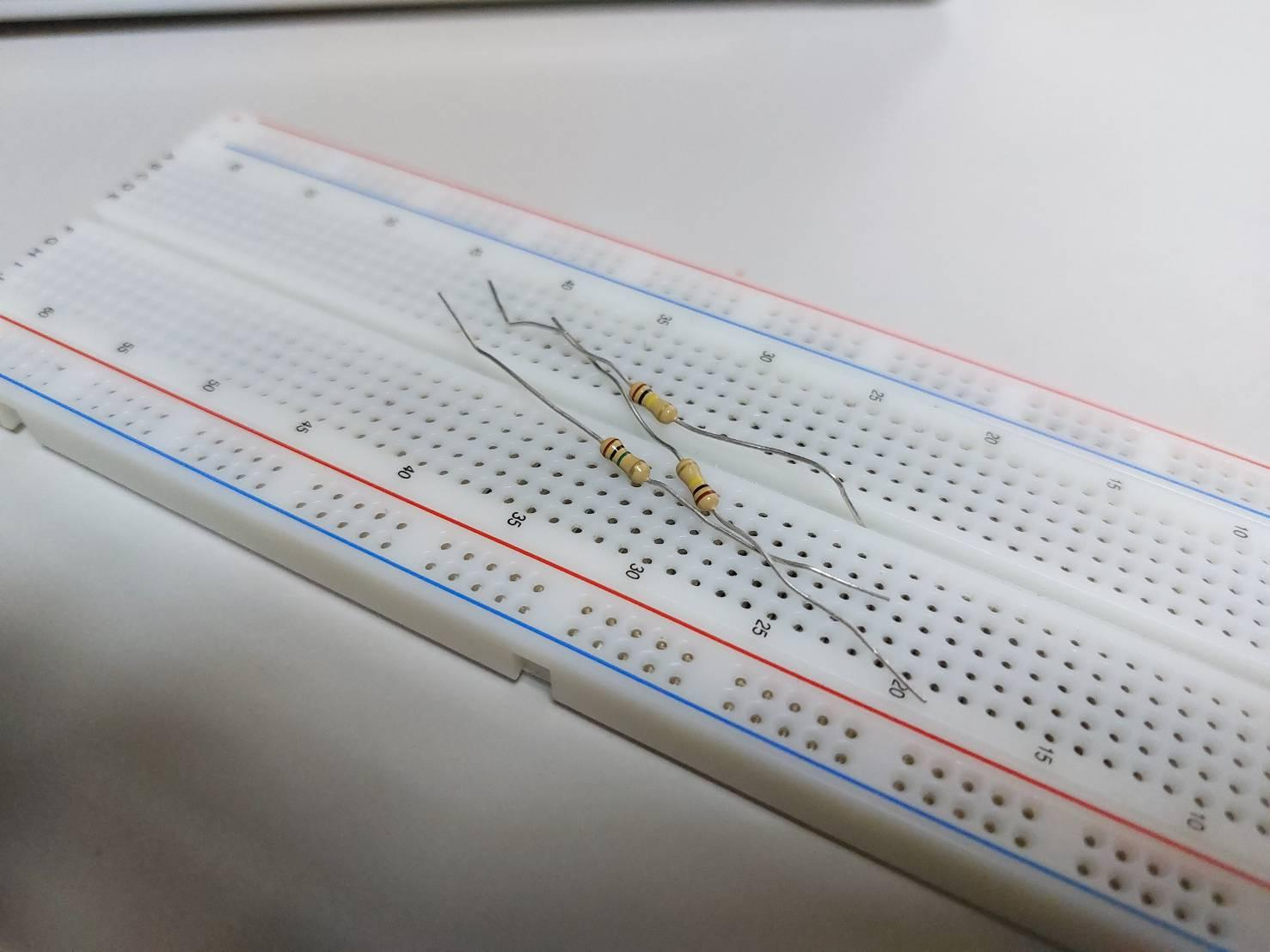resistor: (600, 436, 651, 485), (676, 458, 720, 511), (629, 381, 678, 423)
